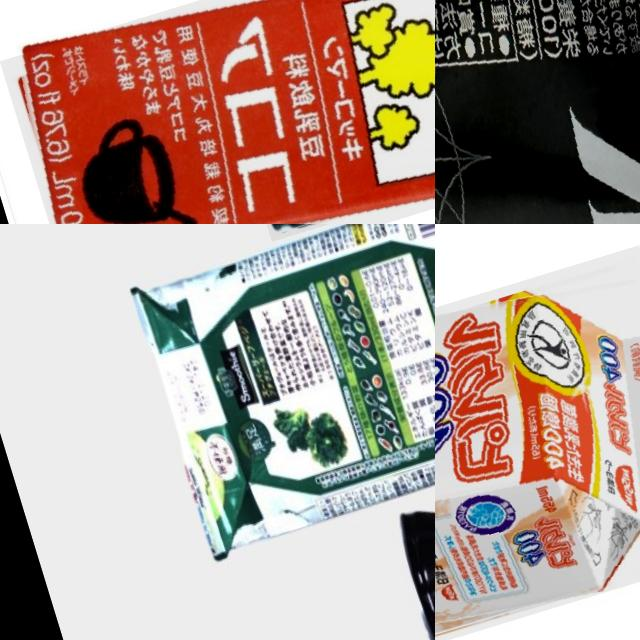Aluminium Foil: (119, 224, 435, 567), (0, 0, 435, 224), (435, 245, 640, 640)
Can: (435, 0, 640, 224)
